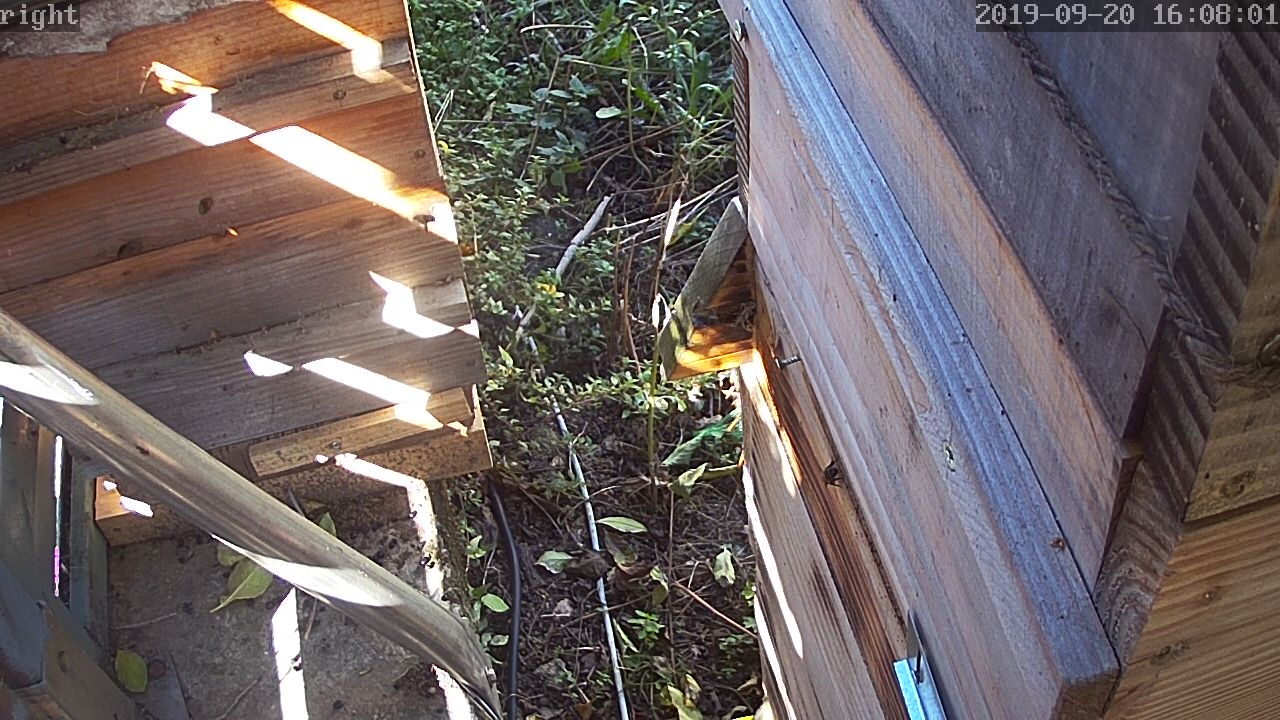hornet: (22, 6, 1248, 720)
